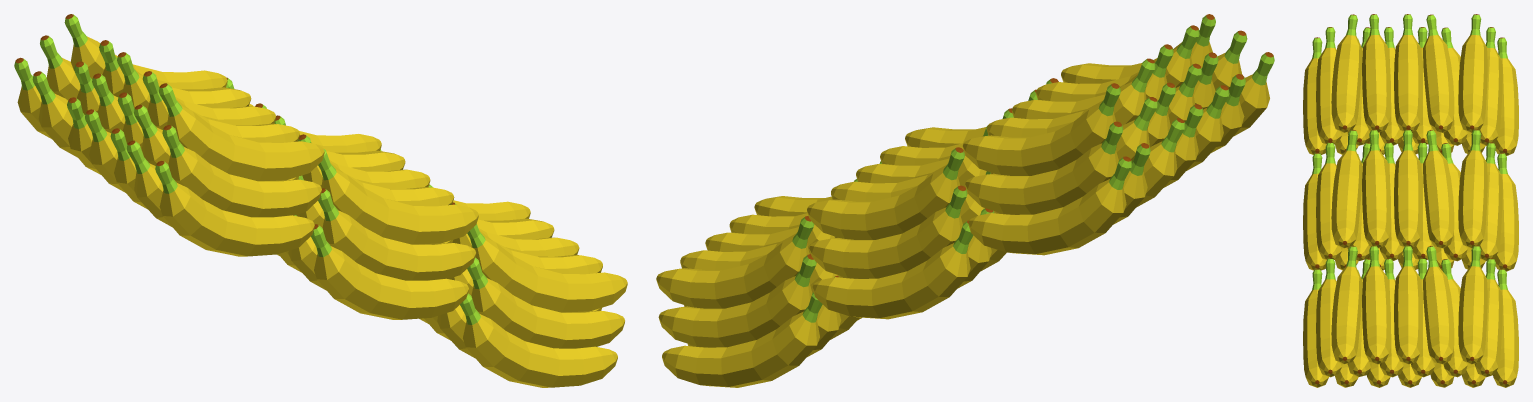
Rendered from Obstregal_Bananen.fbx.
3 views of the same model, side by side, from view 1: azimuth 30°, elevation 25°; view 2: azimuth 150°, elevation 25°; view 3: azimuth 270°, elevation 25° (orthographic). The views are drawn at different scales.
Visible parts, largest first — view 1: Banana; view 2: Banana; view 3: Banana.
Part boxes in pixels (left/top/right/bottom): Banana: left=14, top=14, right=627, bottom=387; Banana: left=656, top=14, right=1274, bottom=387; Banana: left=1303, top=14, right=1518, bottom=387.
Bounding box in the file's own units: 60.87 × 44.38 × 35.34.
